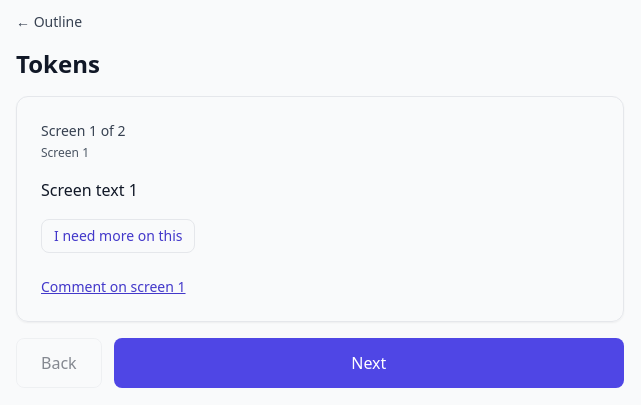
LessonPage › reads screens with their numbers, and the last Next starts the questions
expect the heading "Screen 1 of 2" is shown: met, box [41,121,126,140]
expect the text "Screen text 1" is shown: met, box [41,179,138,201]
Step 1. Click the button "Next" → (369, 363), box [114,338,624,388]
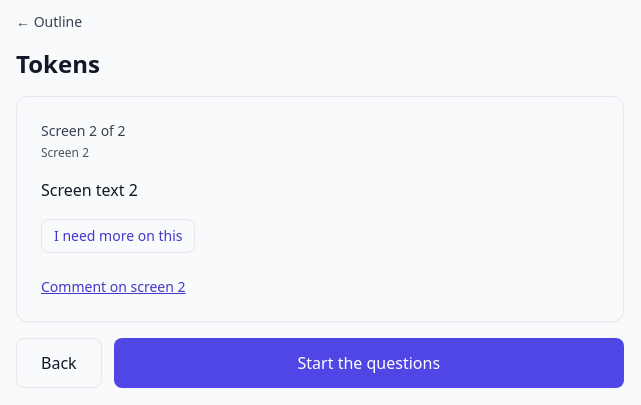
expect the heading "Screen 2 of 2" is shown: met, box [41,121,126,140]
expect the button "Start the questions" is shown: met, box [114,338,624,388]
